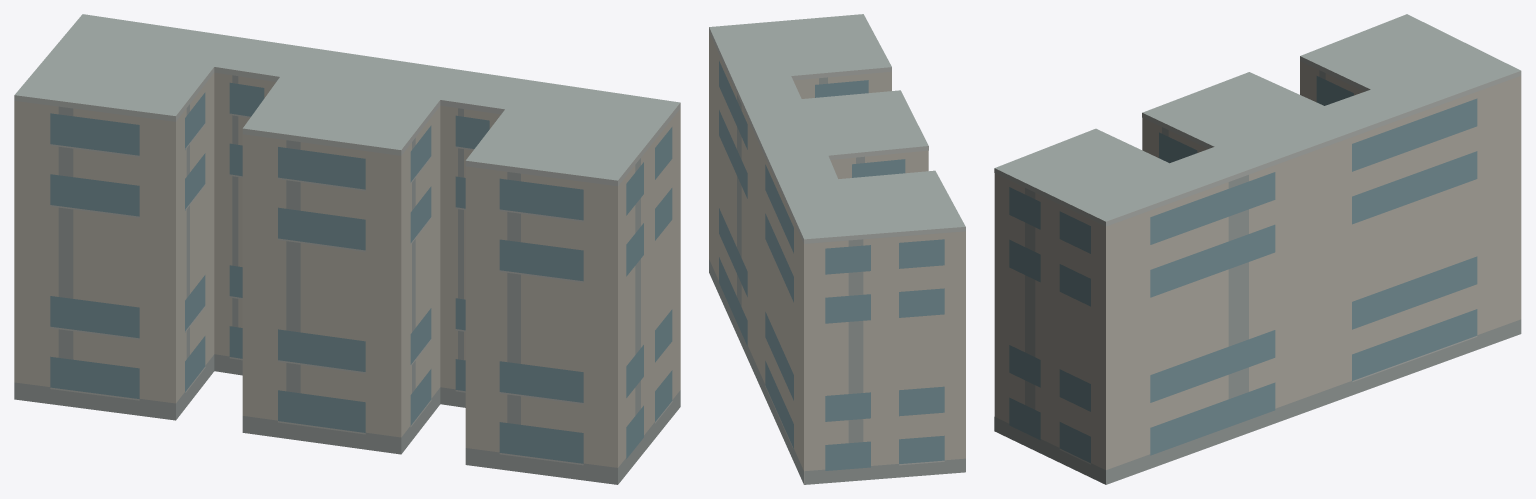
File: survey-upis-33018205.glb
3 renders of one model, left to right at view 1: azimuth 30°, elevation 25°; view 2: azimuth 150°, elevation 25°; view 3: azimuth 270°, elevation 25°, orthographic. The views are drawn at different scales.
Visible parts, largest first — view 1: survey-upis-33018205.tmp; view 2: survey-upis-33018205.tmp; view 3: survey-upis-33018205.tmp.
Part boxes in pixels (<box>): survey-upis-33018205.tmp: <box>14,14,680,484</box>; survey-upis-33018205.tmp: <box>709,14,965,484</box>; survey-upis-33018205.tmp: <box>994,14,1521,484</box>.
Bounding box in the file's own units: 22.01 × 13 × 23.59.
